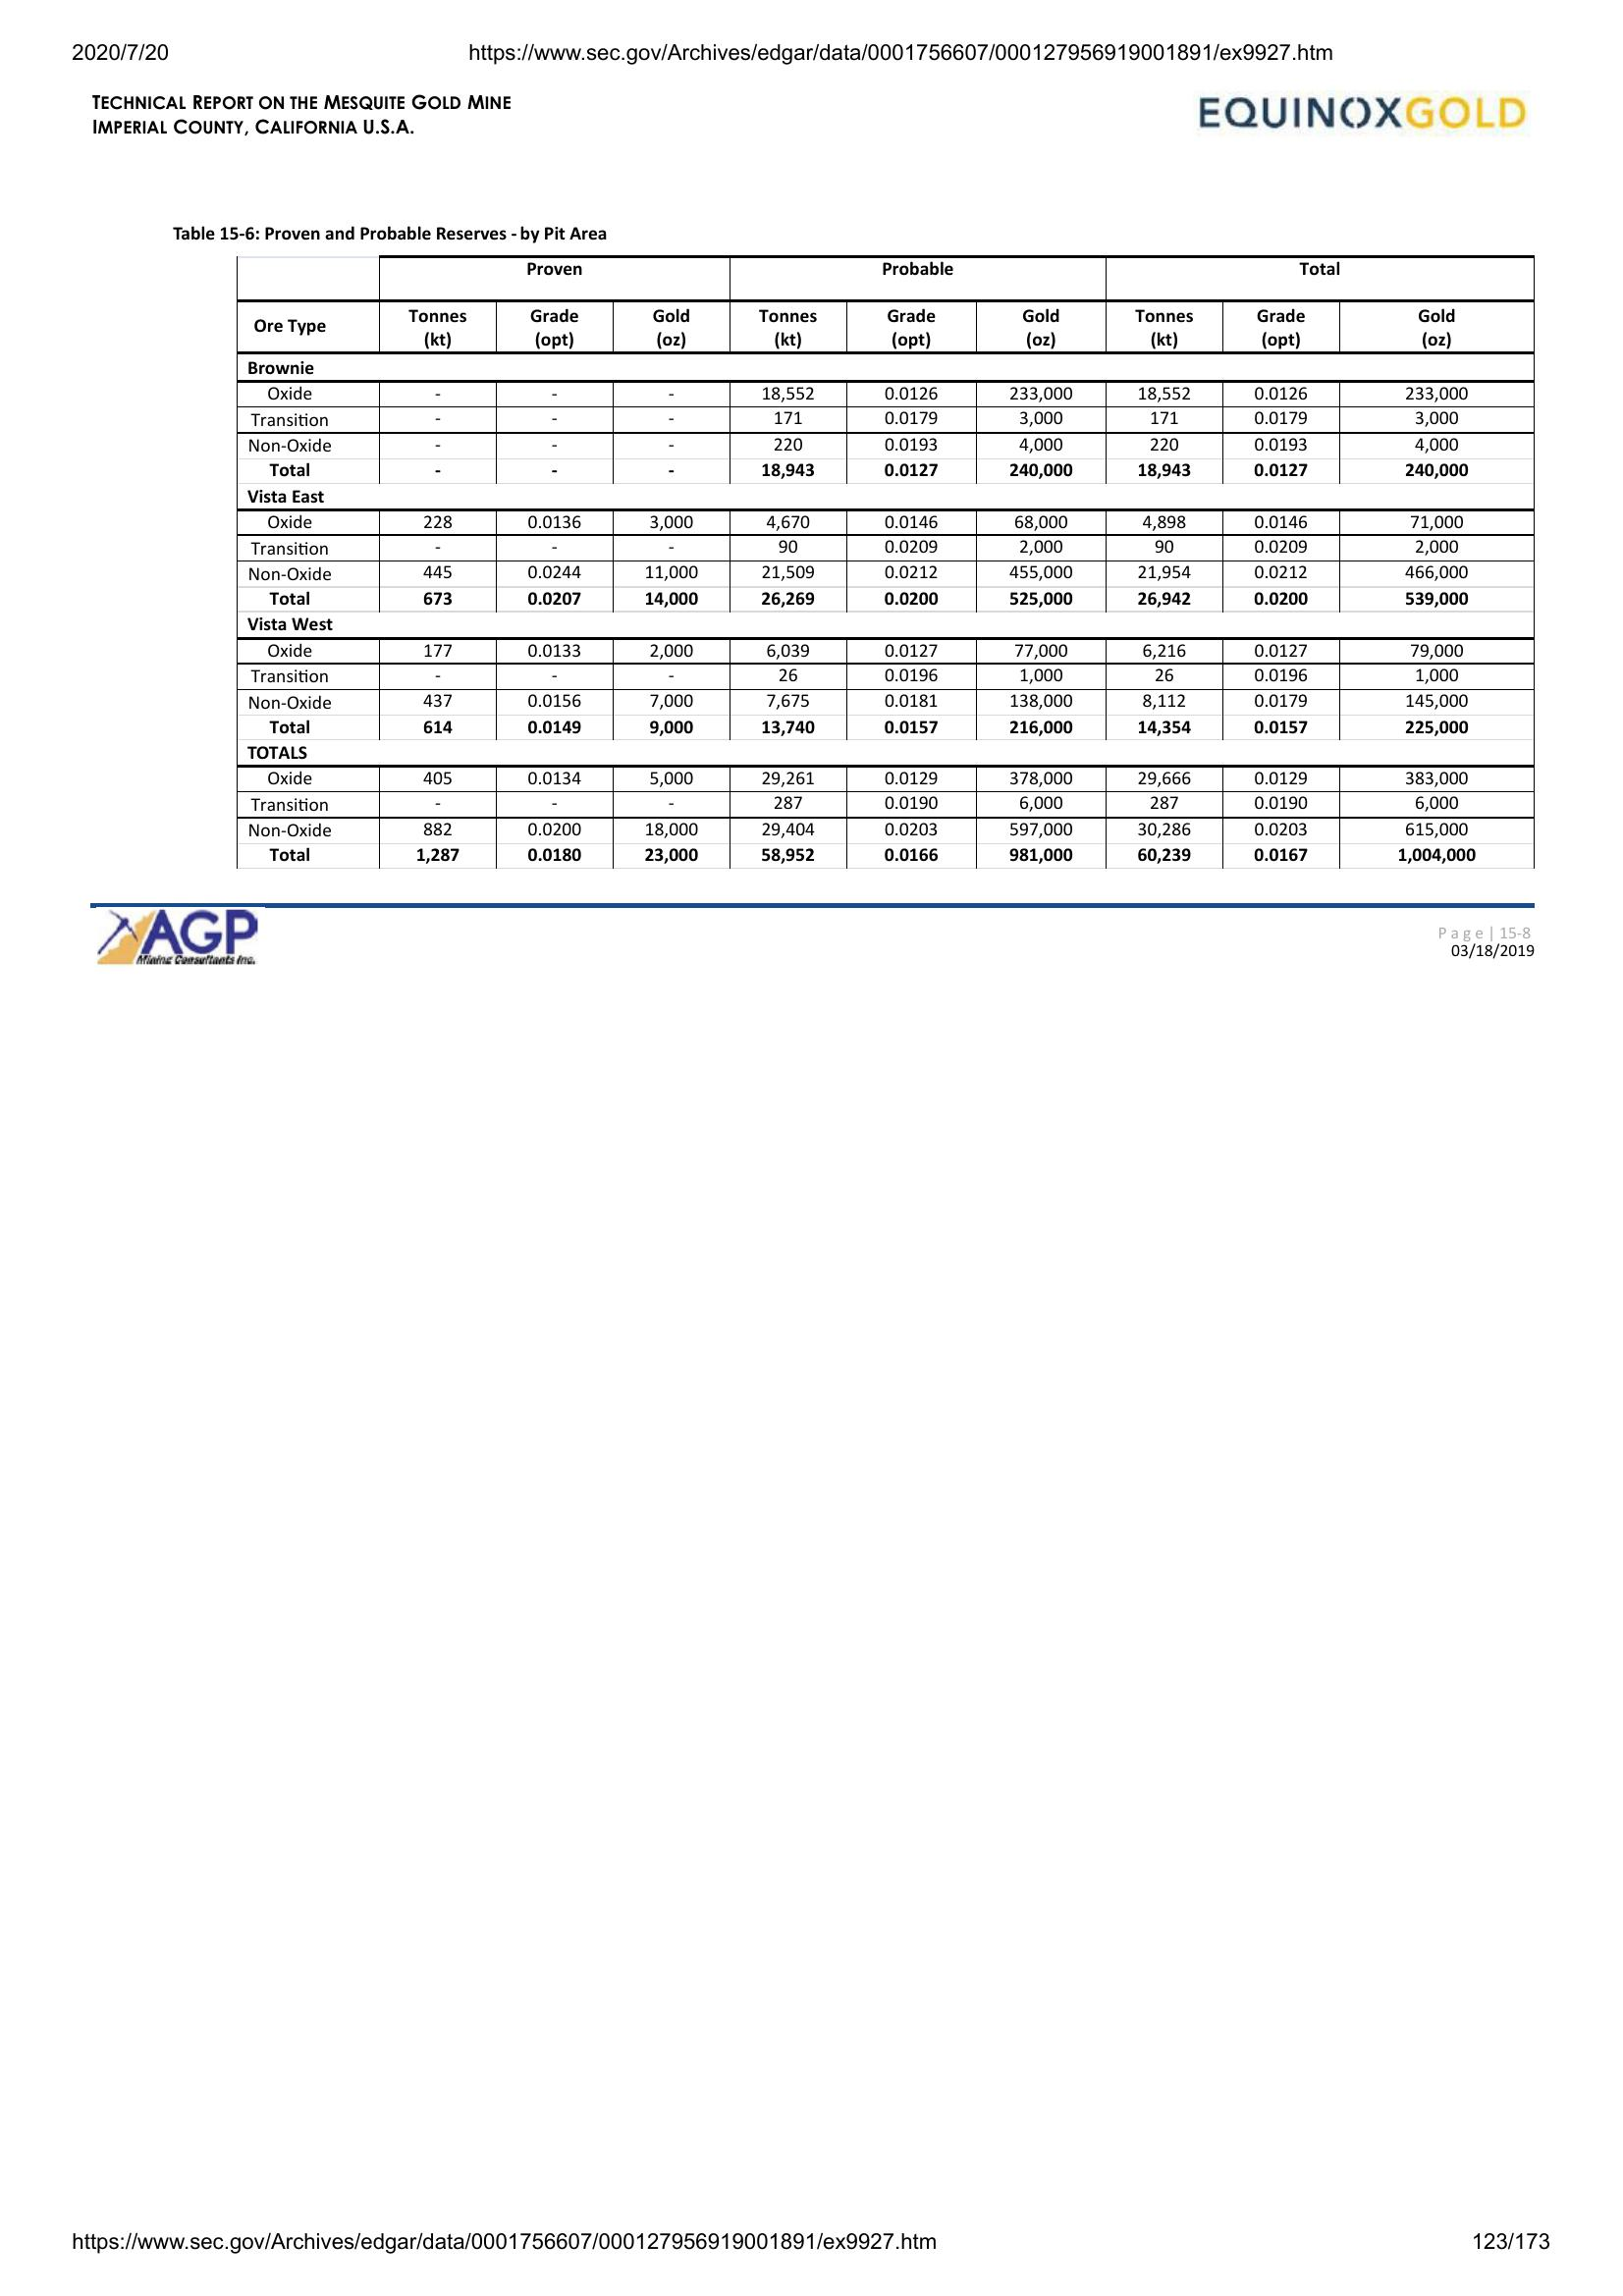table: (230, 249, 1542, 876)
